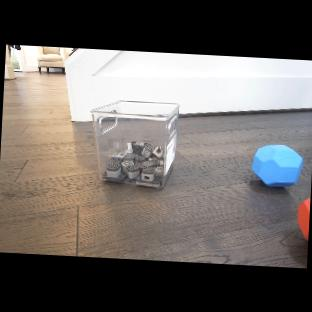V5_BLUE: (250, 142, 303, 188)
V5_RED: (294, 194, 310, 242)
